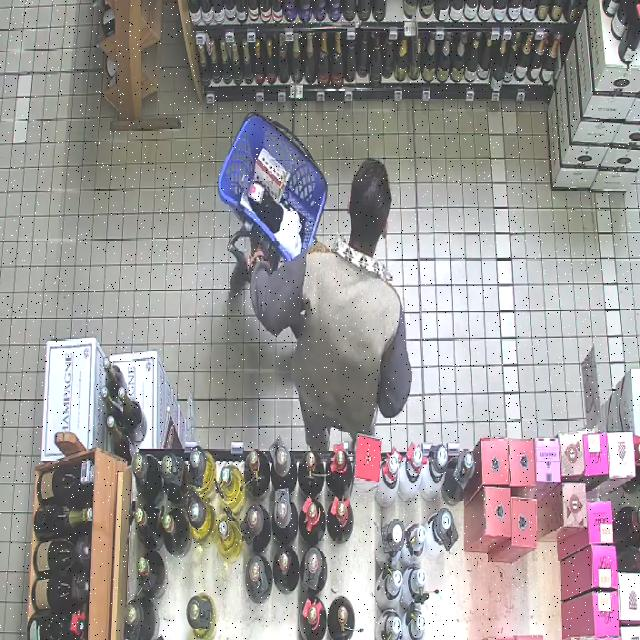hands: (247, 249, 265, 273)
person: (245, 158, 411, 448)
